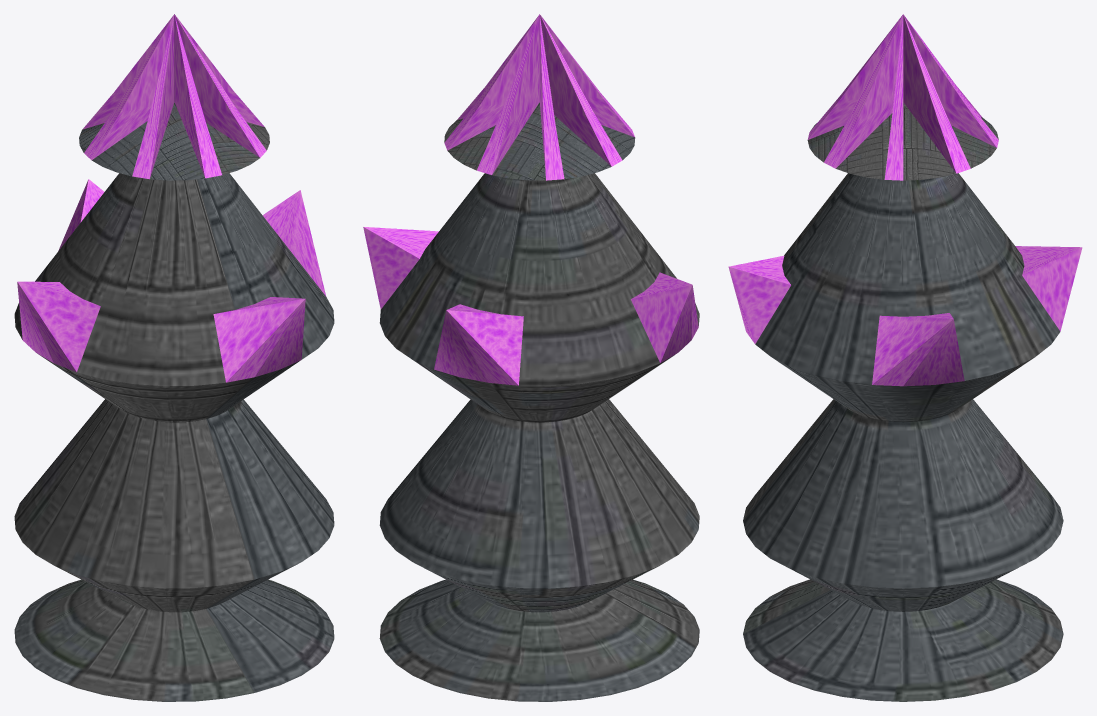
The model's file is arcane.dae.
The picture shows the model from 3 angles, left to right: view 1: azimuth 30°, elevation 25°; view 2: azimuth 150°, elevation 25°; view 3: azimuth 270°, elevation 25°; orthographic projection.
Visible parts, largest first — view 1: Cylinder; view 2: Cylinder; view 3: Cylinder.
Part boxes in pixels (x1,y1,x2,y2): Cylinder: (14, 14, 334, 701); Cylinder: (363, 14, 699, 701); Cylinder: (728, 14, 1082, 701).
Size of the model in its own units: 0.6619 by 1.28 by 0.6627.
